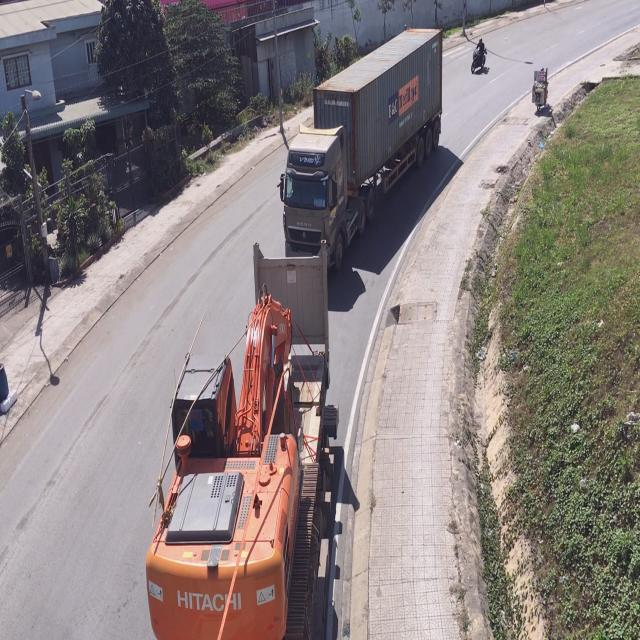motorbike: (530, 66, 548, 115), (471, 37, 488, 76)
truck: (146, 242, 338, 640), (279, 29, 444, 265)
